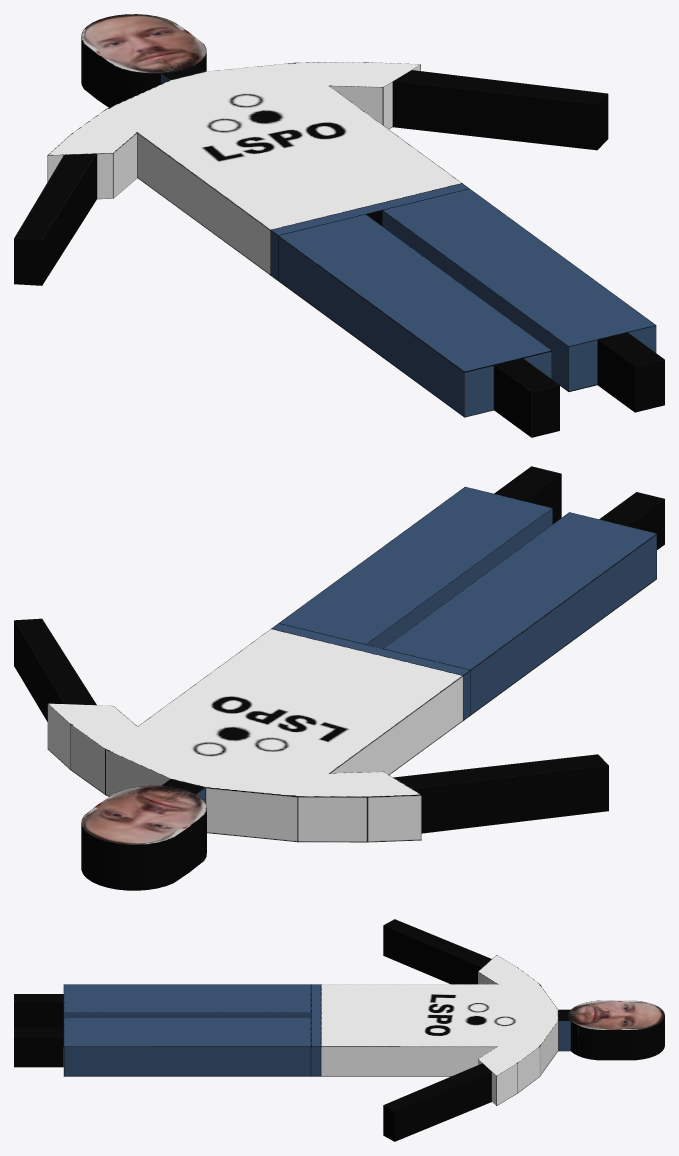
File: Target.fbx
3 views of the same model, one above another, from view 1: azimuth 30°, elevation 25°; view 2: azimuth 150°, elevation 25°; view 3: azimuth 270°, elevation 25° (orthographic). The views are drawn at different scales.
Parts seen in each view (by area): view 1: Cylinder; view 2: Cylinder; view 3: Cylinder.
Part boxes in pixels (<box>): Cylinder: <box>14,14,664,437</box>; Cylinder: <box>14,466,664,890</box>; Cylinder: <box>14,919,664,1141</box>.
Size of the model in its own units: 458 by 33.62 by 654.
Materials: 1 (1 with a texture image).
